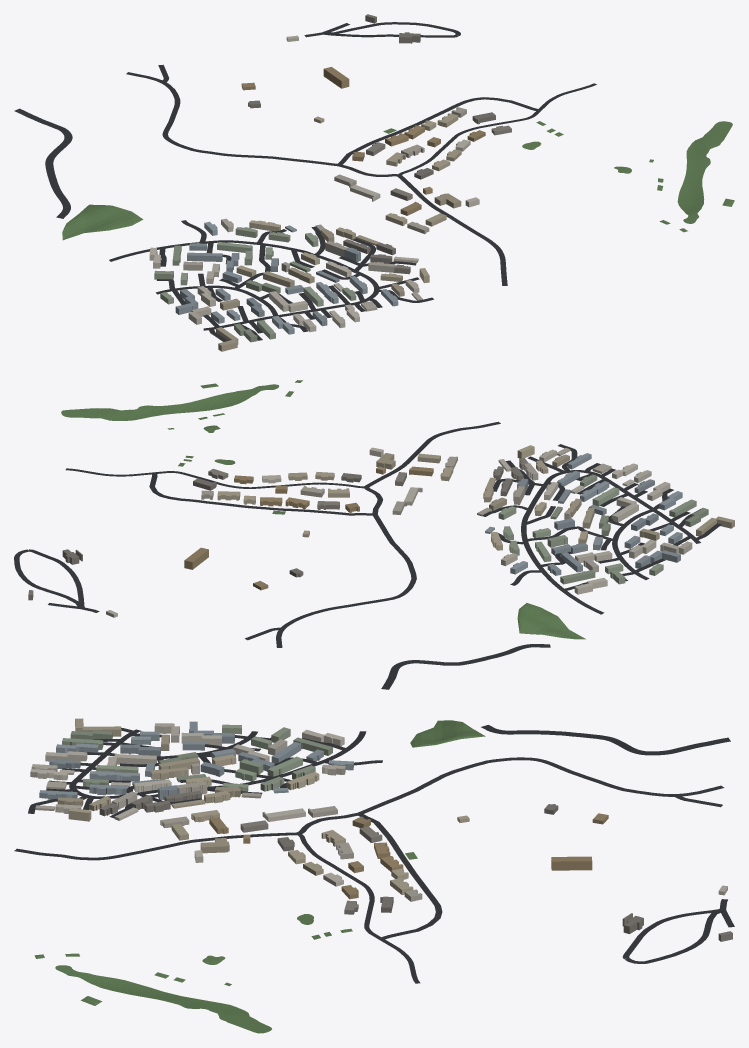
Rendered from tile_5_10.glb.
3 renders of one model, top to bottom at view 1: azimuth 30°, elevation 25°; view 2: azimuth 150°, elevation 25°; view 3: azimuth 270°, elevation 25°, orthographic. The views are drawn at different scales.
Visible parts, largest first — view 1: bld_5_10, road_5_10, grn_5_10; view 2: bld_5_10, road_5_10, grn_5_10; view 3: bld_5_10, road_5_10, grn_5_10.
Boxes of the visible parts, box(x1,y1,x2,y2) form: bld_5_10: box(149, 14, 511, 351); road_5_10: box(14, 22, 596, 341); grn_5_10: box(62, 121, 734, 240); bld_5_10: box(28, 445, 734, 617); road_5_10: box(14, 421, 721, 689); grn_5_10: box(61, 380, 585, 639); bld_5_10: box(30, 718, 732, 941); road_5_10: box(14, 725, 734, 983); grn_5_10: box(34, 720, 485, 1033).
Bounding box in the file's own units: 935 × 75.26 × 827.
